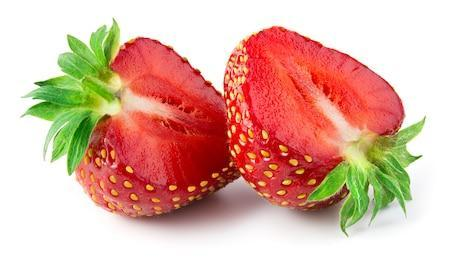Fresa: (217, 20, 410, 217), (59, 31, 245, 225)
